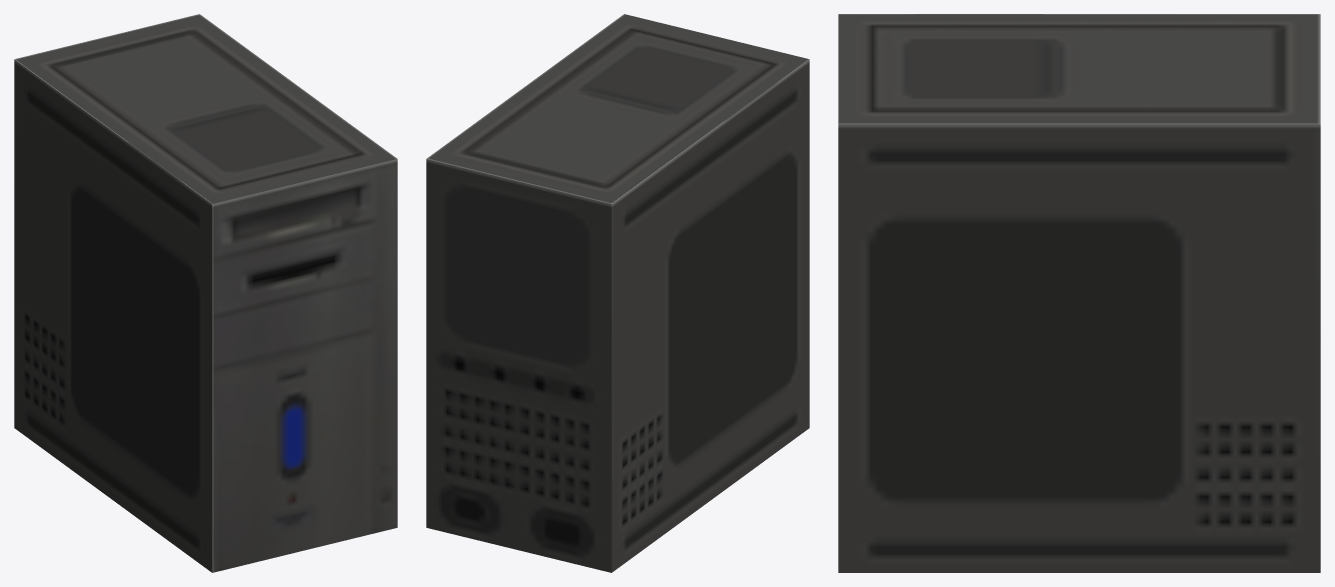
Rendered from Computer_3B.fbx.
3 views of the same model, side by side, from view 1: azimuth 30°, elevation 25°; view 2: azimuth 150°, elevation 25°; view 3: azimuth 270°, elevation 25° (orthographic). The views are drawn at different scales.
Visible parts, largest first — view 1: polySurface689; view 2: polySurface689; view 3: polySurface689.
Boxes of the visible parts, x1,y1,x2,y2 form: polySurface689: (14,14,397,572); polySurface689: (426,14,809,572); polySurface689: (838,14,1320,572).
Size of the model in its own units: 0.24 by 0.456 by 0.444.
